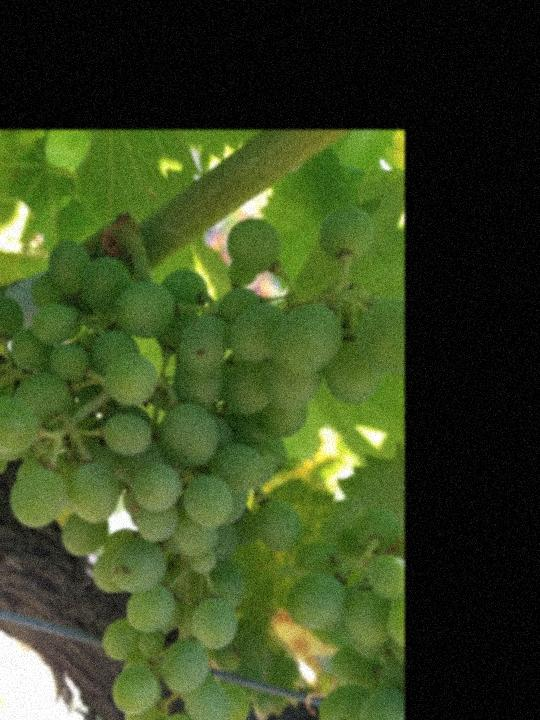grape: (0, 202, 399, 720)
